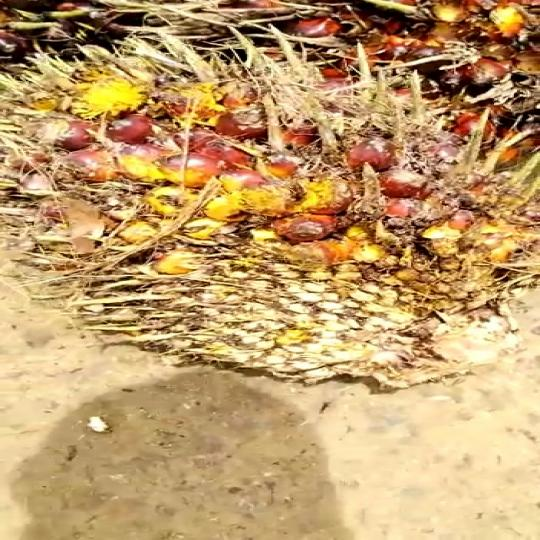masak: (0, 43, 540, 414)
